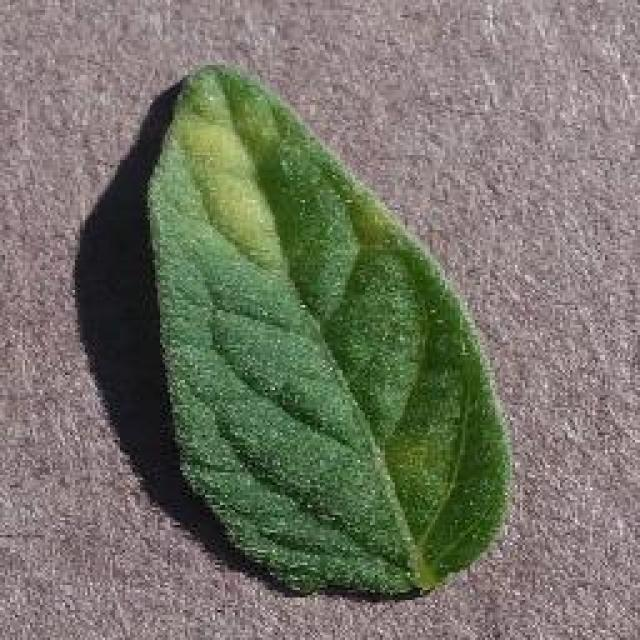Tomato___Leaf_Mold: (148, 65, 505, 590)
